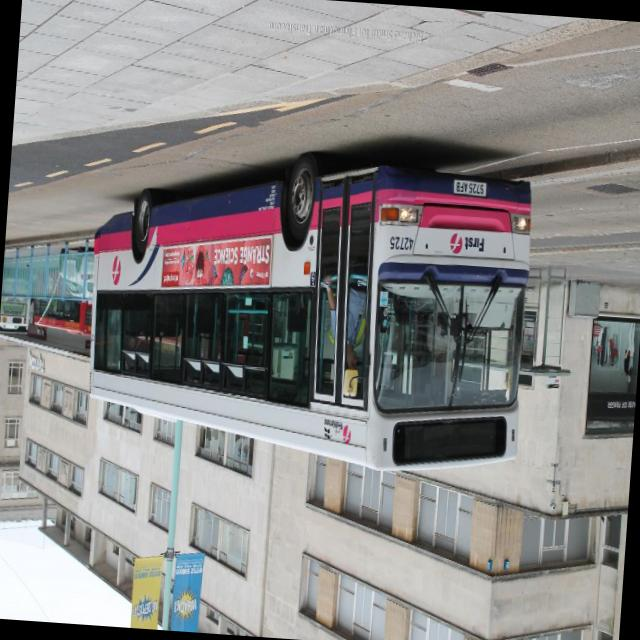bus: (77, 138, 540, 486), (32, 272, 100, 337), (0, 279, 32, 331)
